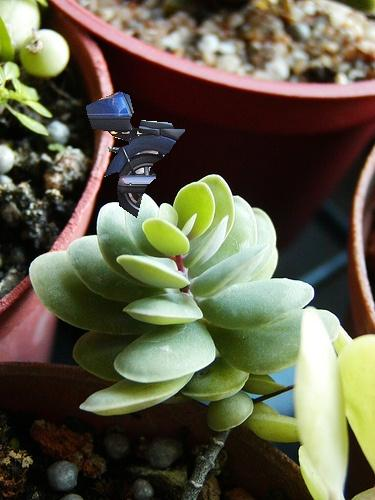tampered: (87, 92, 185, 218)
